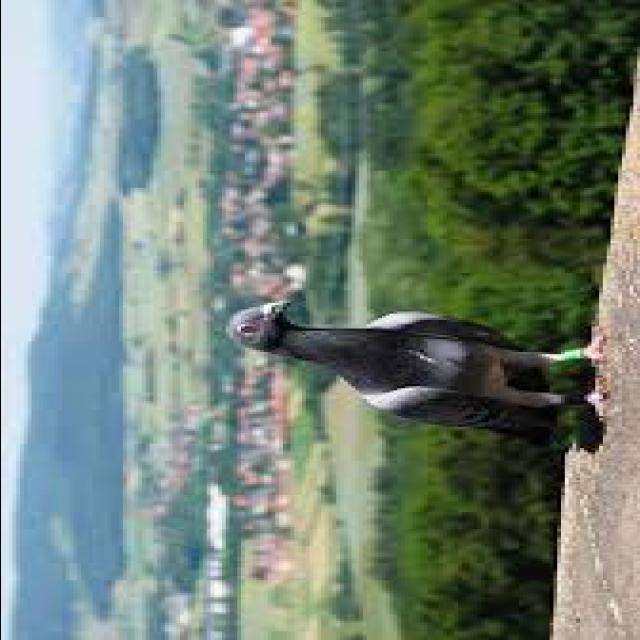pigeon: (180, 288, 608, 445)
